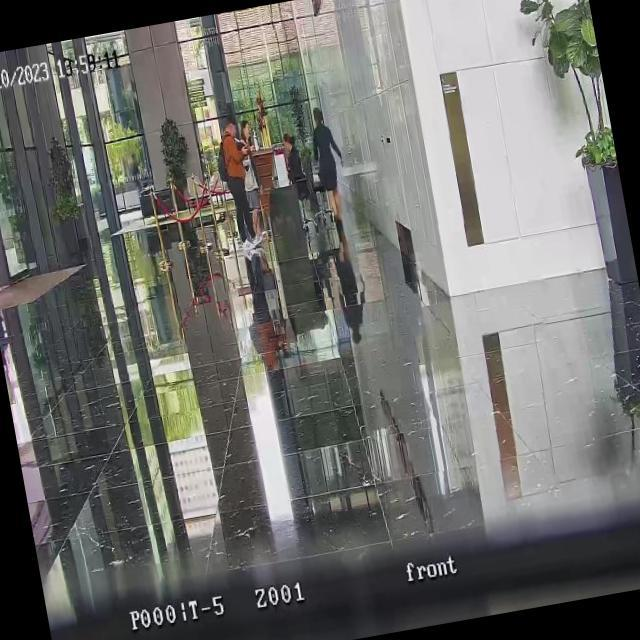person: (216, 115, 266, 246), (306, 104, 354, 230), (233, 118, 272, 241), (279, 128, 306, 190)
